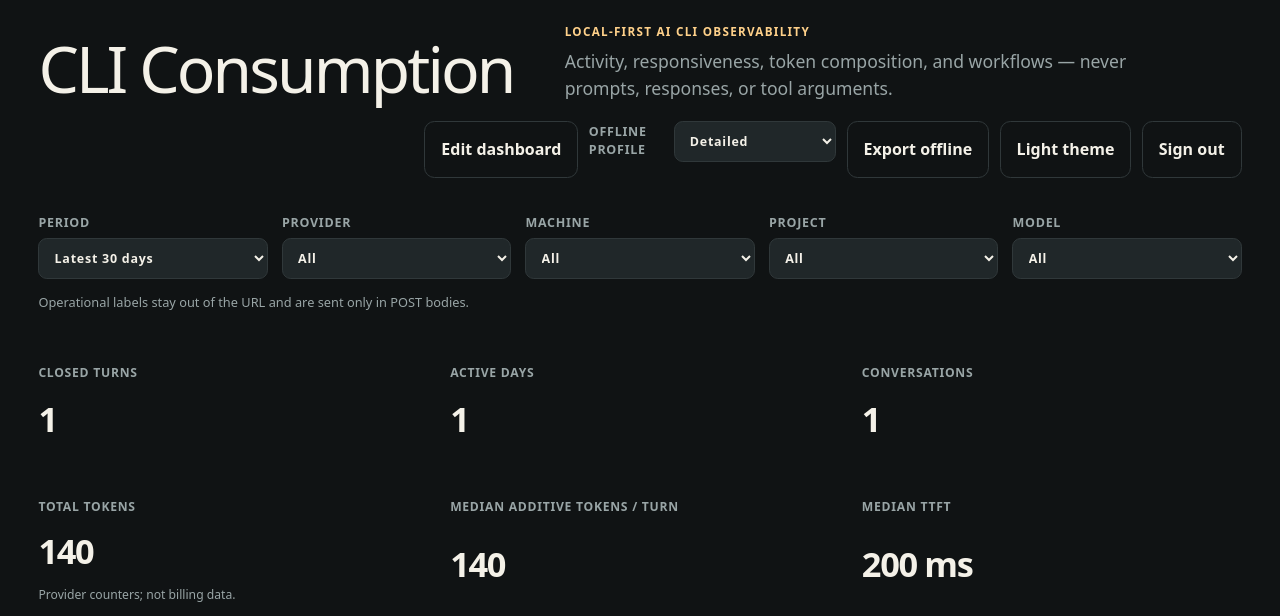
Test case: persistent dashboard › preserves a conflicting draft and retries only after loading the latest ETag
Click the button "Edit dashboard". click: (501, 149)
box: left=424, top=121, right=578, bottom=178
(page scrolled)
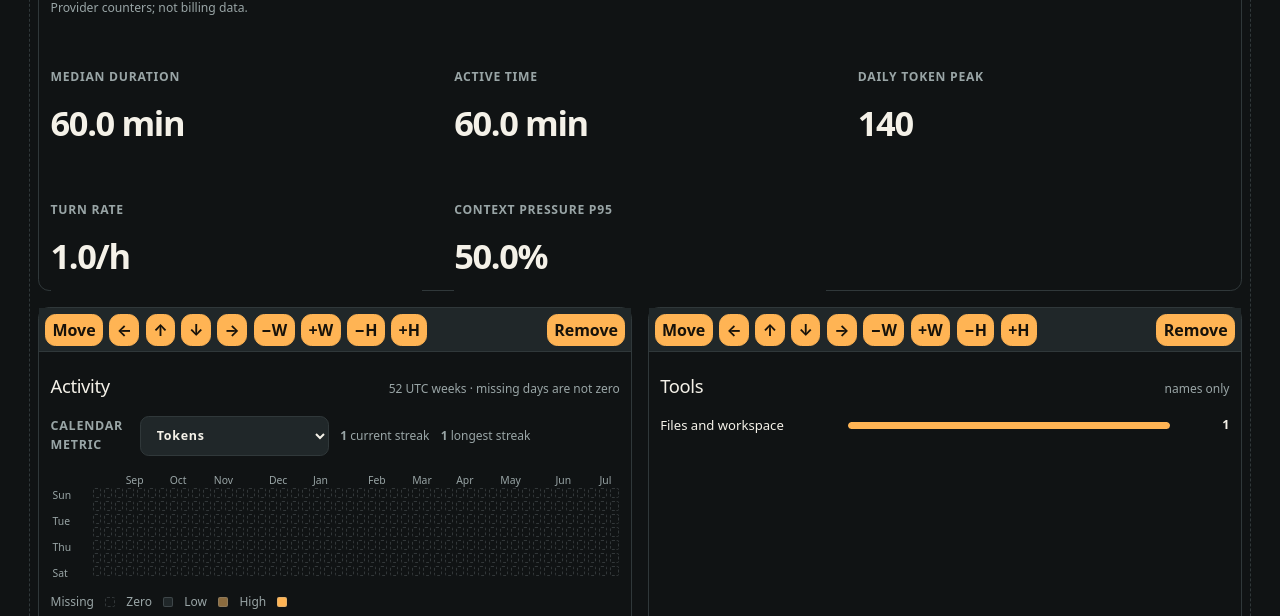
Click the button with aria-label "Remove Tools". click: (1196, 330)
box: left=1156, top=314, right=1235, bottom=346
(page scrolled)
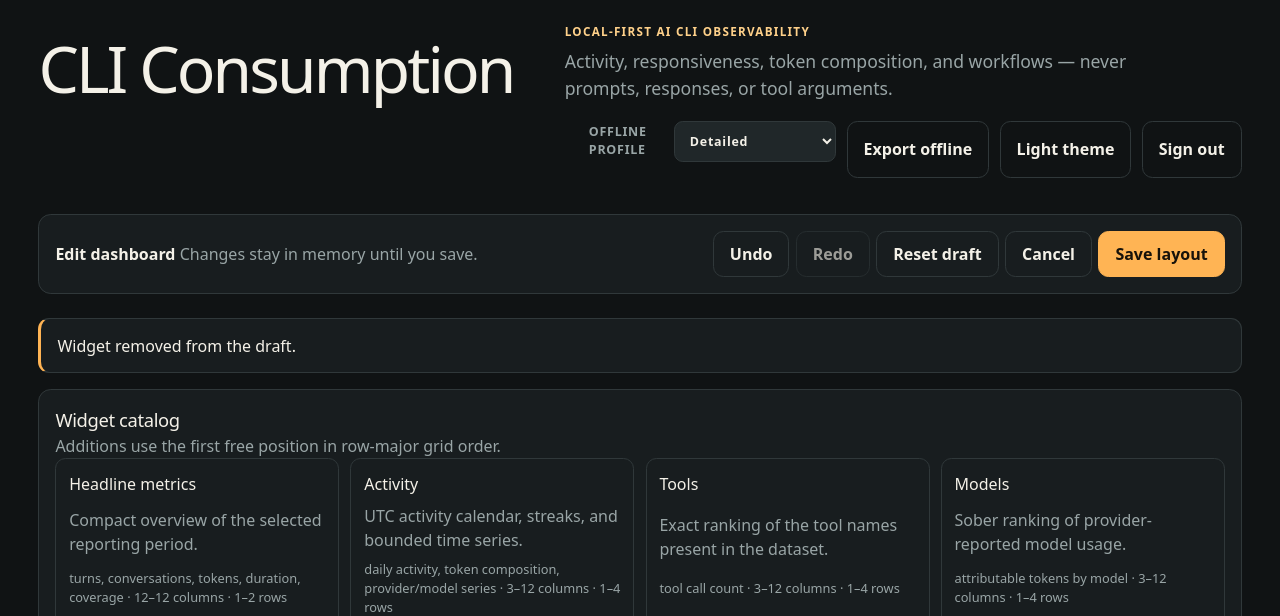
Click the button "Save layout". click: (1162, 254)
box: left=1098, top=231, right=1225, bottom=278
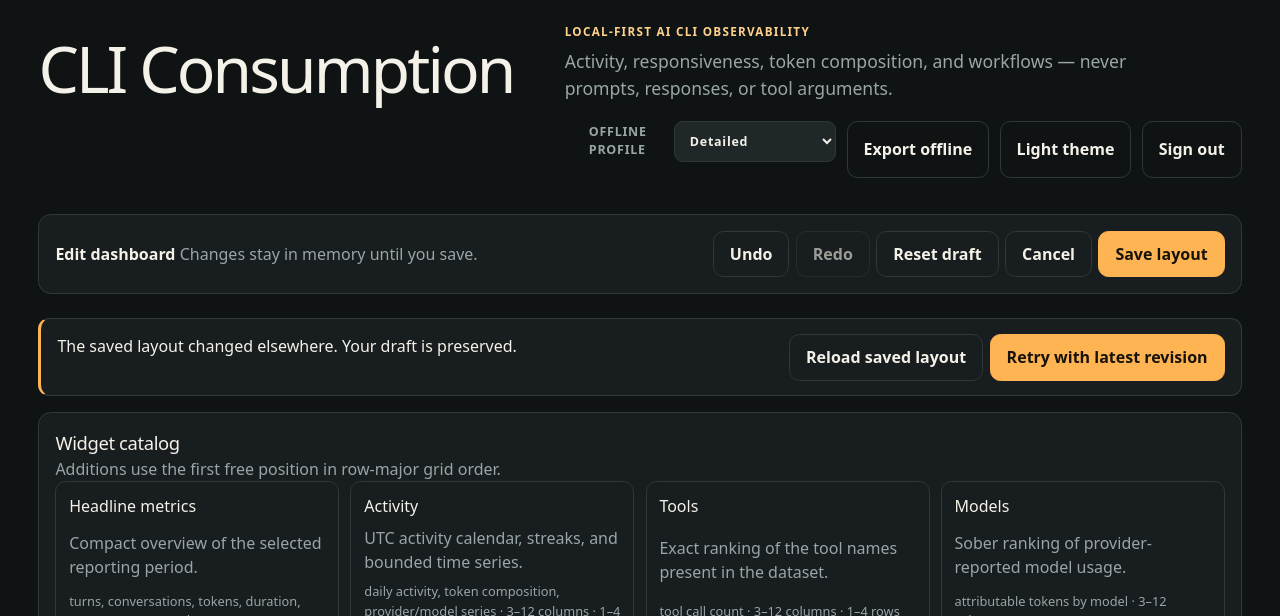
Check: the text "The saved layout changed elsewhere. Your draft is preserved." is shown, box left=57, top=335, right=517, bottom=357
Click the button "Retry with latest revision". click: (1107, 357)
box: left=990, top=334, right=1225, bottom=381
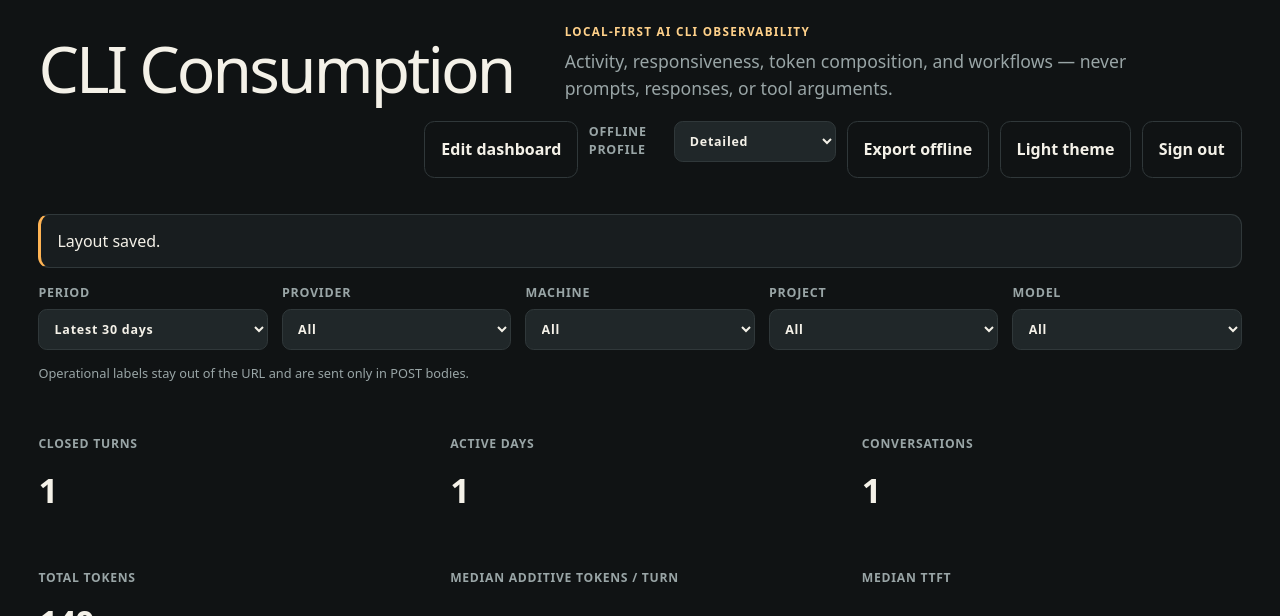
Check: the text "Layout saved." is shown, box left=57, top=229, right=160, bottom=253
